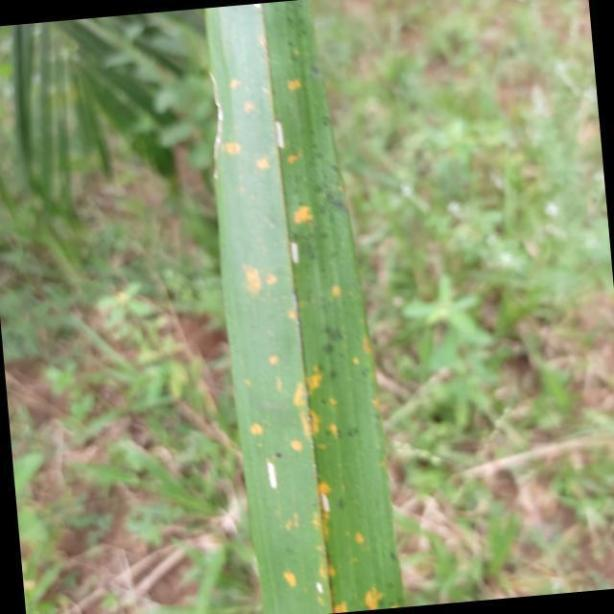Kalium: (203, 0, 409, 614)
